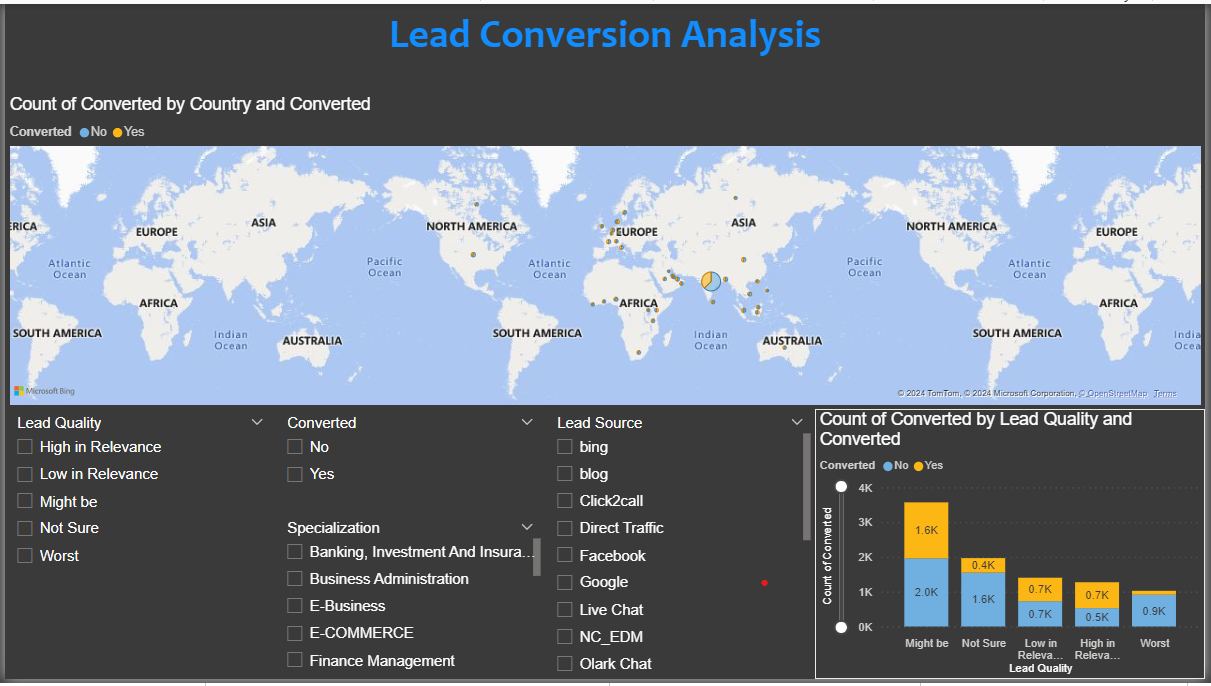

The dashboard page shown, as its layout file describes it:
{"tool":"powerbi","page":{"name":"Lead Conversion Analysis","canvas":[1280,720],"ordinal":6},"visuals":[{"type":"slicer","fields":{"Values":["Customer Lead Prediction.Lead Quality"]},"box":[0,432,288,288],"z":0},{"type":"slicer","fields":{"Values":["Customer Lead Prediction.Converted"]},"box":[288,432,288,112],"z":1000},{"type":"slicer","fields":{"Values":["Customer Lead Prediction.Lead Source"]},"box":[576,432,288,288],"z":2000},{"type":"columnChart","fields":{"Category":["Customer Lead Prediction.Lead Quality"],"Y":["CountNonNull(Customer Lead Prediction.Converted)"],"Series":["Customer Lead Prediction.Converted"]},"box":[864,432,416,288],"z":3000},{"type":"map","fields":{"Category":["Customer Lead Prediction.Country"],"Size":["CountNonNull(Customer Lead Prediction.Converted)"],"Series":["Customer Lead Prediction.Converted"]},"box":[0,96,1280,336],"z":4000},{"type":"slicer","fields":{"Values":["Customer Lead Prediction.Specialization"]},"box":[288,544,288,176],"z":5000},{"type":"textbox","box":[0,0,1280,96],"z":6000}]}

Visuals, with their boxes in screenshot pixels (x1, y1, x2, y2), scaled from the page's 1280x720 canvas onto the 1211x686 screenshot:
slicer - Customer Lead Prediction.Lead Quality: box(0, 412, 272, 685)
slicer - Customer Lead Prediction.Converted: box(272, 412, 545, 518)
slicer - Customer Lead Prediction.Lead Source: box(545, 412, 817, 685)
columnChart - Customer Lead Prediction.Lead Quality x CountNonNull(Customer Lead Prediction.Converted): box(817, 412, 1210, 685)
map - Customer Lead Prediction.Country x CountNonNull(Customer Lead Prediction.Converted): box(0, 91, 1210, 412)
slicer - Customer Lead Prediction.Specialization: box(272, 518, 545, 685)
textbox: box(0, 0, 1210, 91)
